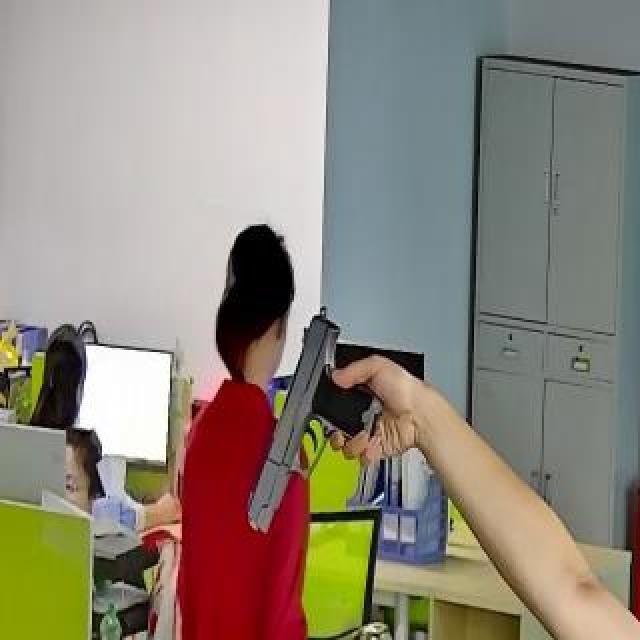Guns: (229, 297, 438, 525)
